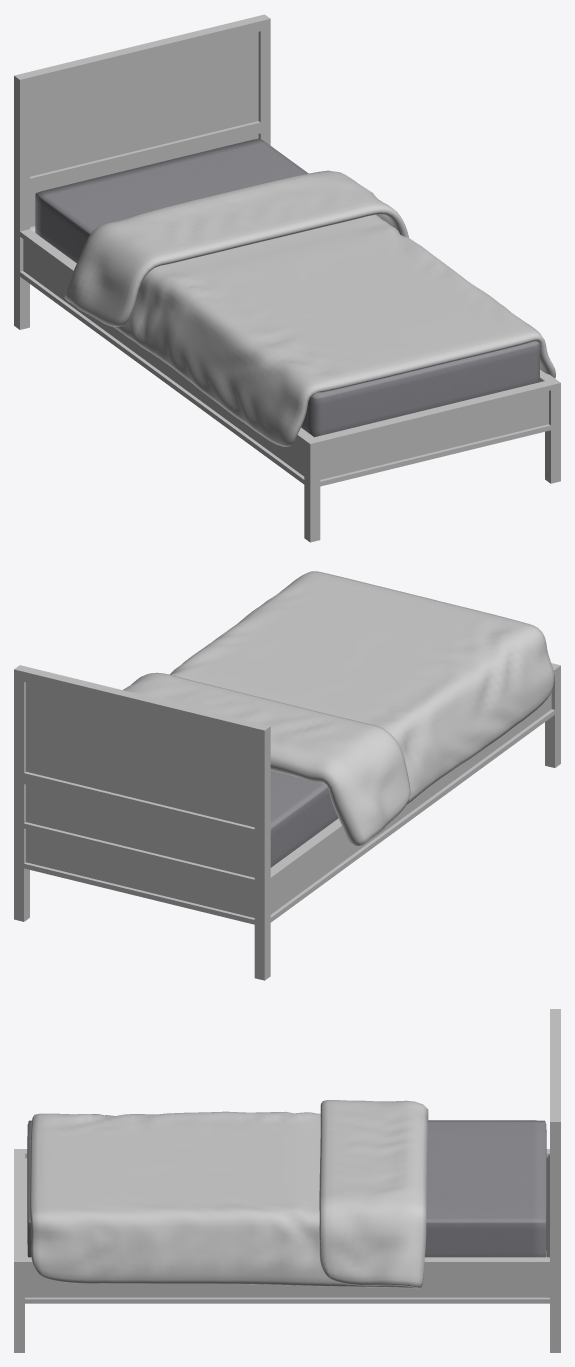
File: Bed07.fbx
The picture shows the model from 3 angles, top to bottom: view 1: azimuth 30°, elevation 25°; view 2: azimuth 150°, elevation 25°; view 3: azimuth 270°, elevation 25°; orthographic projection. The views are drawn at different scales.
Parts seen in each view (by area): view 1: Blanket07, BedFrame07, Mattress07; view 2: BedFrame07, Blanket07, Mattress07; view 3: Blanket07, BedFrame07, Mattress07.
Part boxes in pixels (bbox=[...]): Blanket07: bbox=[64, 170, 555, 446]; BedFrame07: bbox=[14, 14, 560, 542]; Mattress07: bbox=[35, 138, 539, 437]; BedFrame07: bbox=[14, 663, 560, 980]; Blanket07: bbox=[123, 571, 554, 846]; Mattress07: bbox=[270, 770, 338, 867]; Blanket07: bbox=[29, 1100, 428, 1288]; BedFrame07: bbox=[14, 1009, 560, 1352]; Mattress07: bbox=[27, 1120, 546, 1257].
Size of the model in its own units: 135 by 104 by 224.
